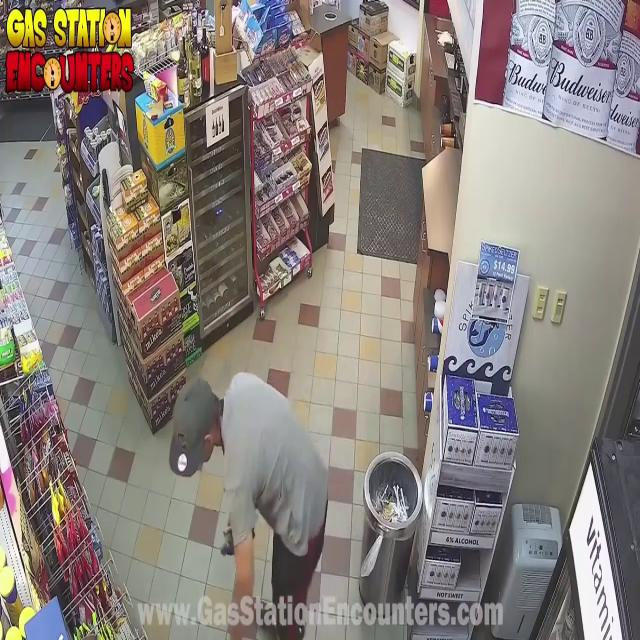Product: (205, 522, 241, 570)
shoplifting: (159, 290, 344, 640)
